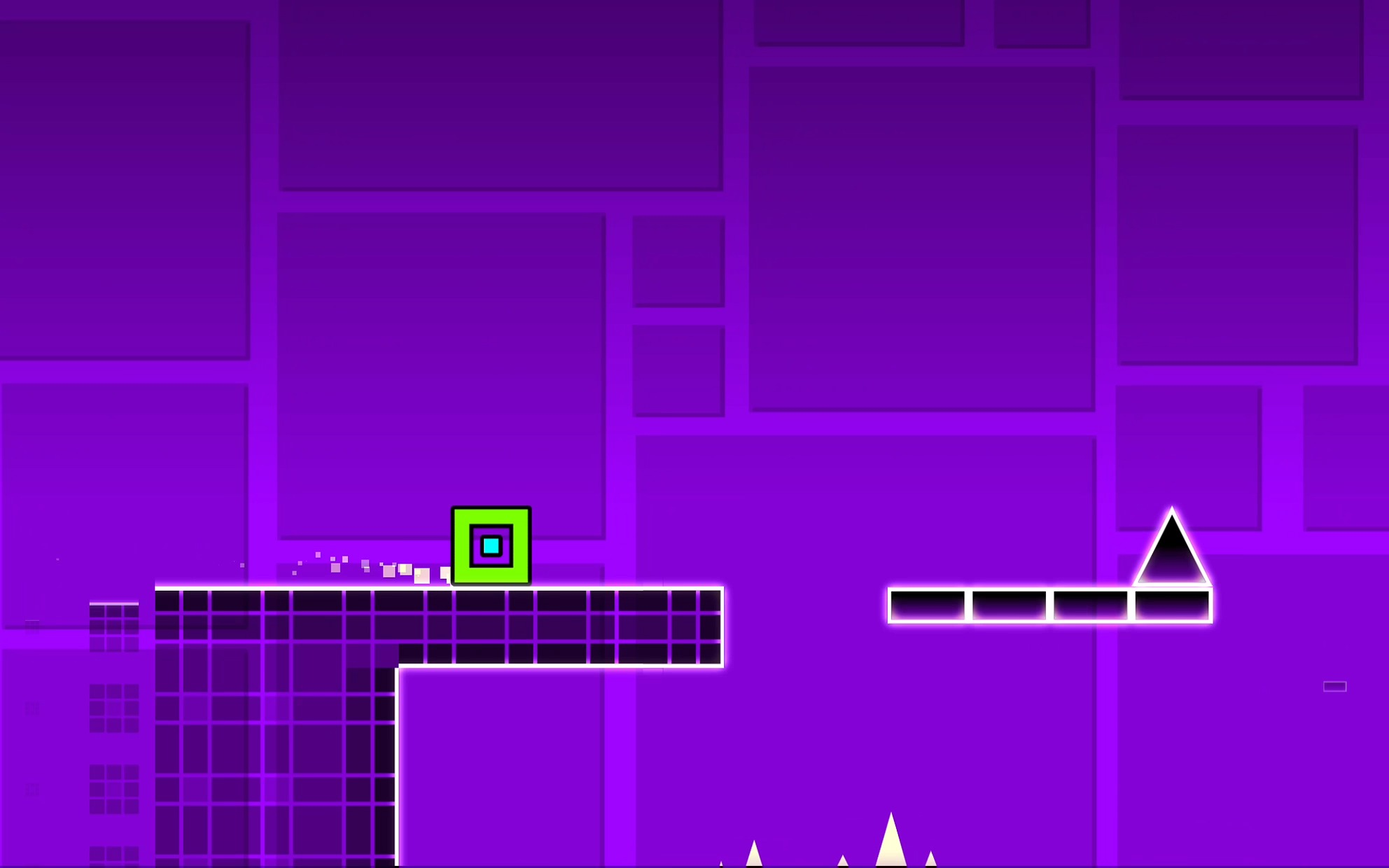Block2: (151, 585, 400, 862), (391, 589, 723, 664)
Block3: (1132, 587, 1218, 626), (1051, 591, 1129, 629), (969, 590, 1054, 624), (886, 588, 970, 622)
Player: (449, 505, 531, 583)
Spike: (1130, 508, 1210, 587)
